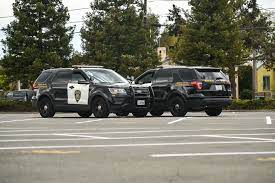special: (33, 64, 154, 125), (132, 66, 234, 116)
